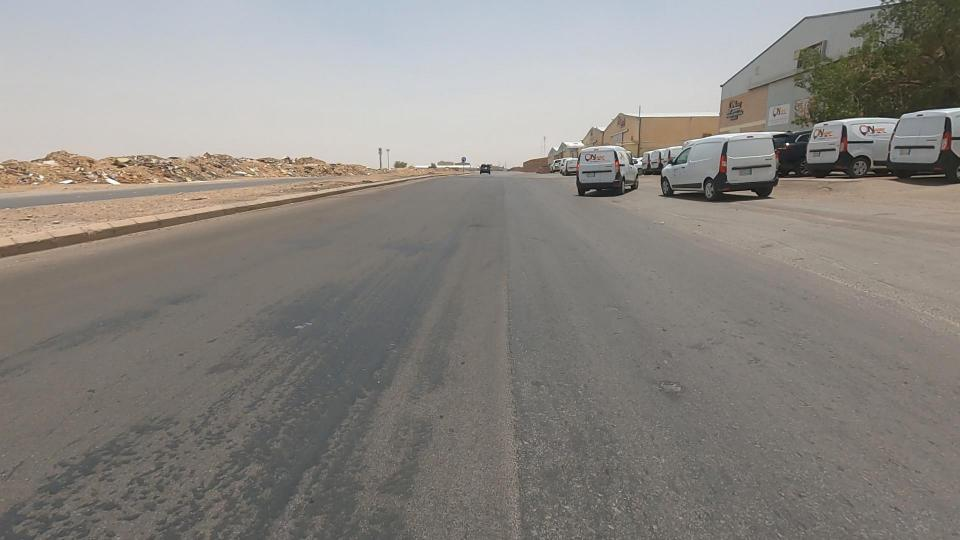GARBAGE: (37, 158, 95, 196), (213, 156, 269, 192), (77, 159, 129, 196), (262, 147, 301, 191)
